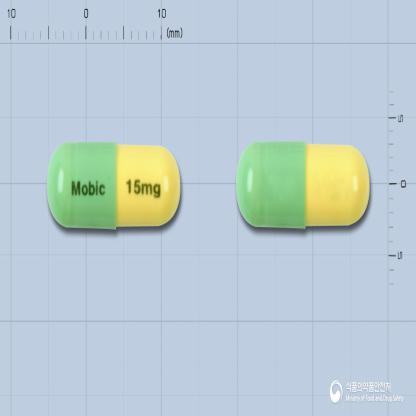pill: (45, 138, 183, 232), (235, 140, 372, 230)
